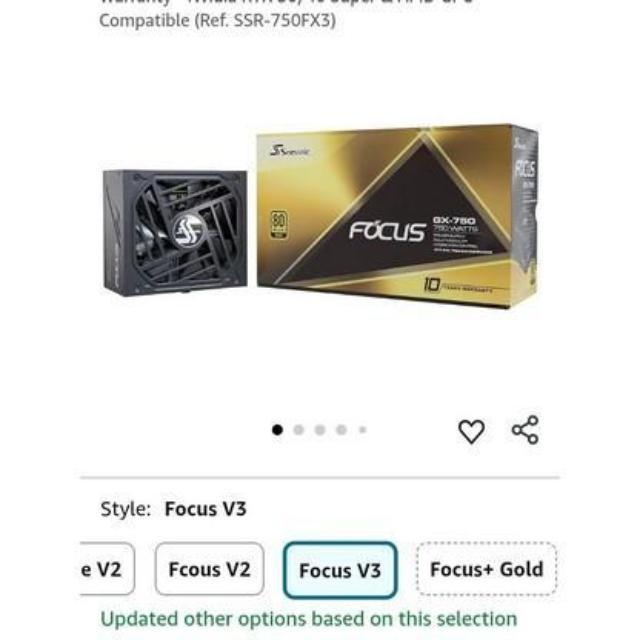PSU: (92, 160, 257, 302)
